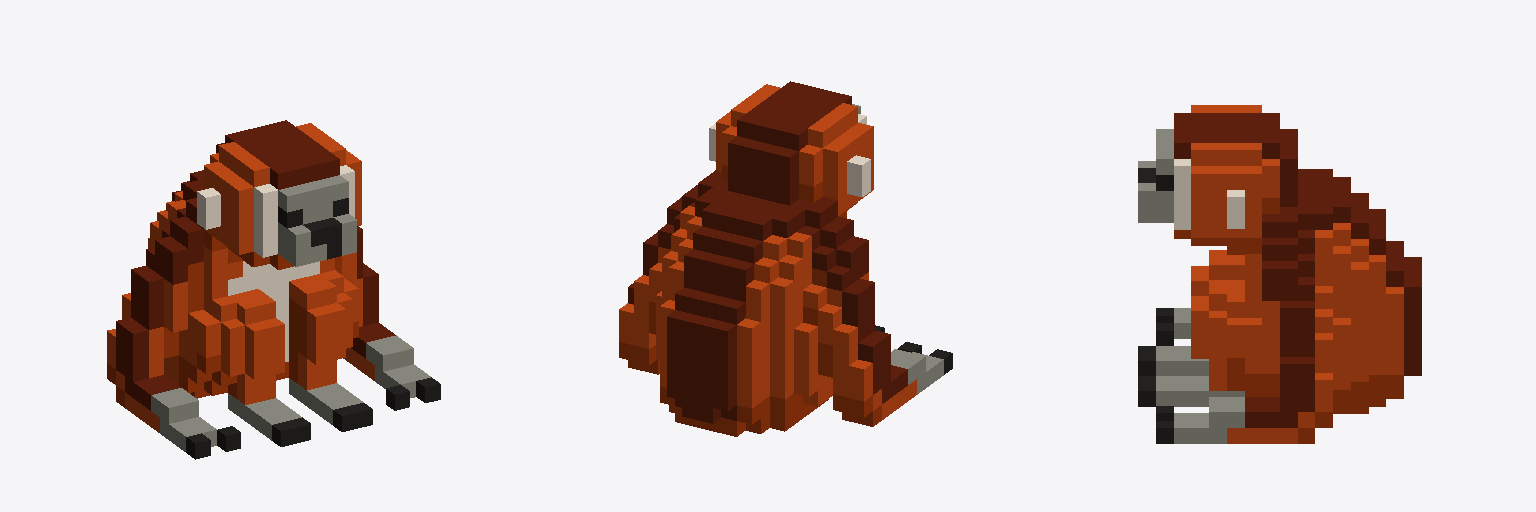
3 views of the same model, side by side, from view 1: azimuth 30°, elevation 25°; view 2: azimuth 150°, elevation 25°; view 3: azimuth 270°, elevation 25° (orthographic).
Parts seen in each view (by area): view 1: object 1; view 2: object 1; view 3: object 1.
Part boxes in pixels (left/top/right/bottom): object 1: left=107, top=120, right=440, bottom=459; object 1: left=619, top=81, right=952, bottom=436; object 1: left=1138, top=105, right=1421, bottom=443.
Size of the model in its own units: 1.6 by 1.6 by 1.6.
Materials: 1 (1 with a texture image).